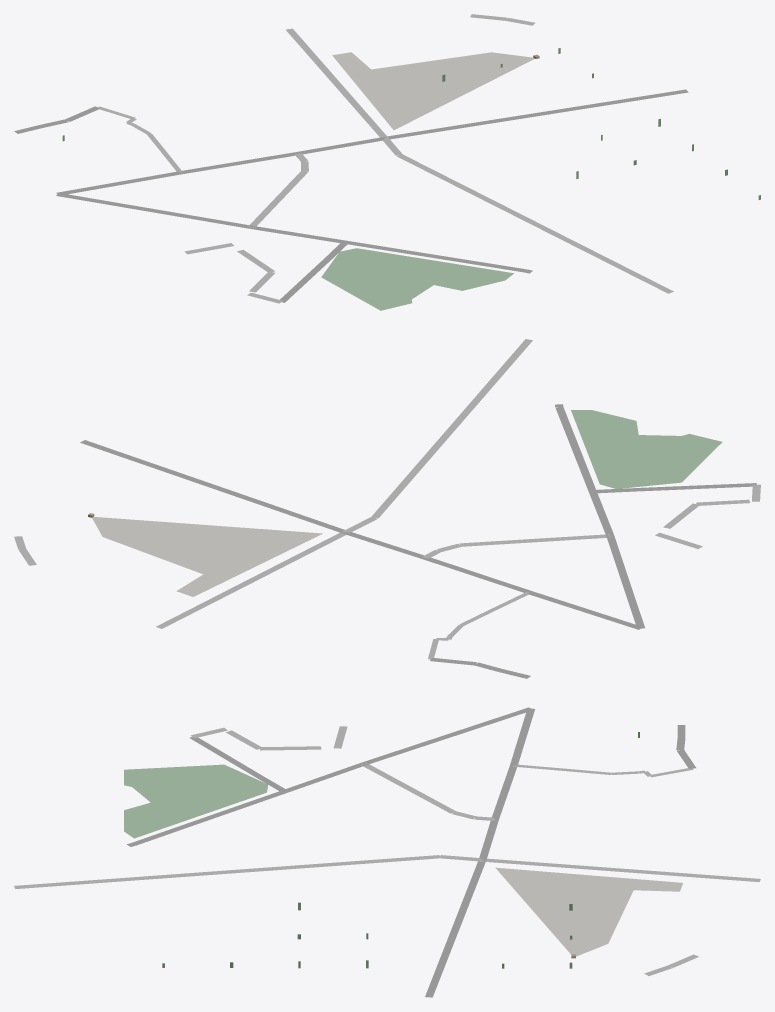
3 renders of one model, top to bottom at view 1: azimuth 30°, elevation 25°; view 2: azimuth 150°, elevation 25°; view 3: azimuth 270°, elevation 25°, orthographic. The views are drawn at different scales.
Size of the model in its own units: 605 by 8.9 by 660.
